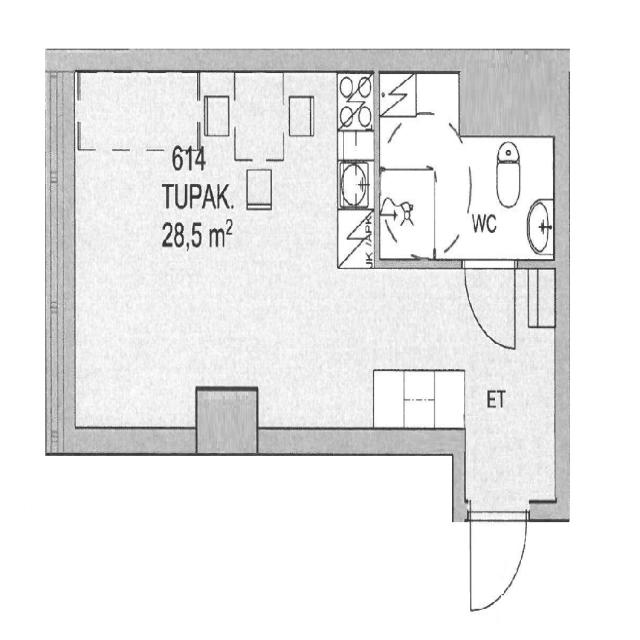door: (466, 506, 531, 620), (460, 255, 516, 350)
zone: (54, 66, 378, 436), (376, 67, 463, 268), (461, 134, 557, 261)
